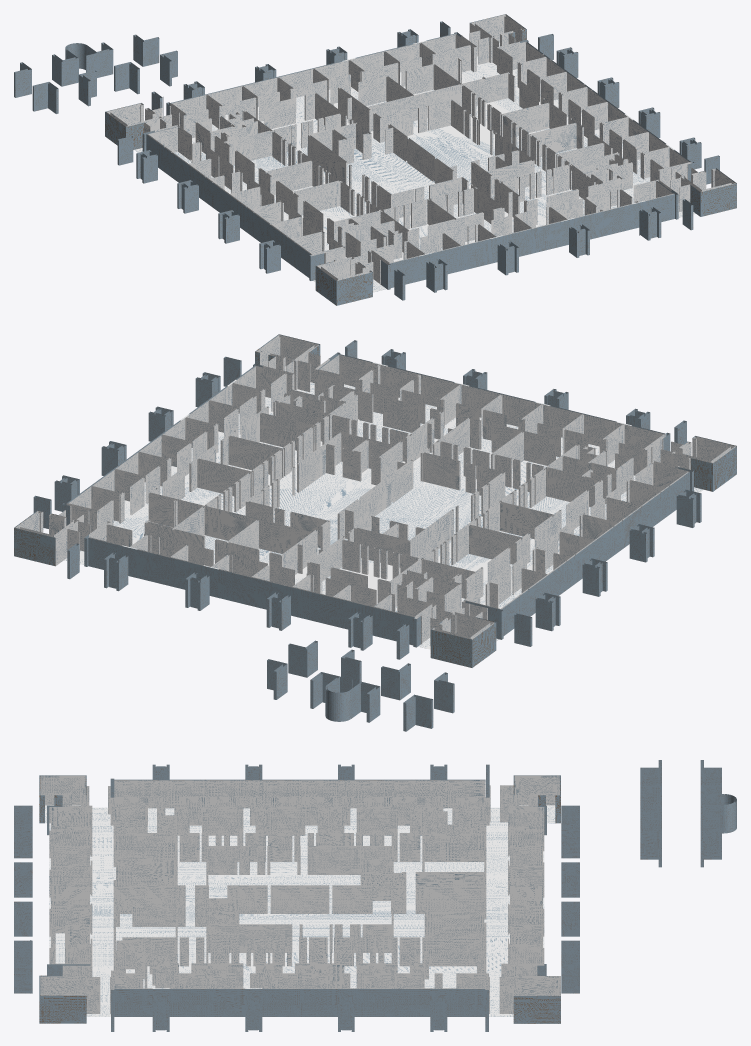
The model's file is PSE_floor1.fbx.
3 renders of one model, top to bottom at view 1: azimuth 30°, elevation 25°; view 2: azimuth 150°, elevation 25°; view 3: azimuth 270°, elevation 25°, orthographic. The views are drawn at different scales.
Parts seen in each view (by area): view 1: PSE_FL1, Model; view 2: PSE_FL1, Model; view 3: PSE_FL1, Model.
Boxes of the visible parts, box(x1,y1,x2,y2) form: PSE_FL1: box(14, 14, 736, 305); Model: box(90, 42, 695, 292); PSE_FL1: box(14, 334, 736, 731); Model: box(64, 366, 703, 728); PSE_FL1: box(14, 760, 736, 1031); Model: box(14, 805, 724, 1023).
Size of the model in its own units: 2243 by 120 by 2811.
